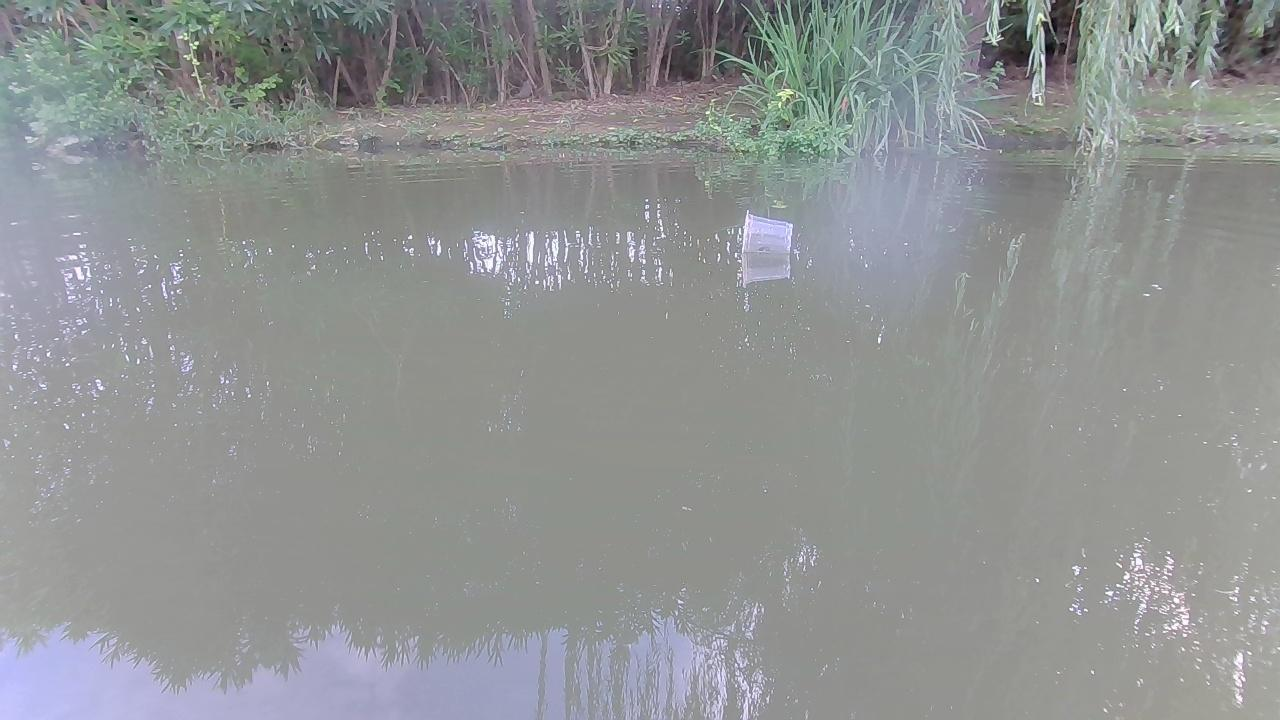bottle: (736, 207, 797, 242)
